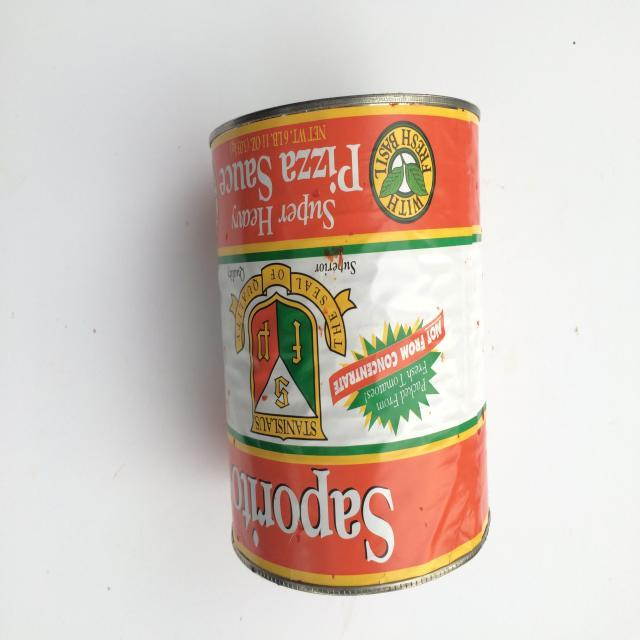metal: (208, 91, 492, 592)
